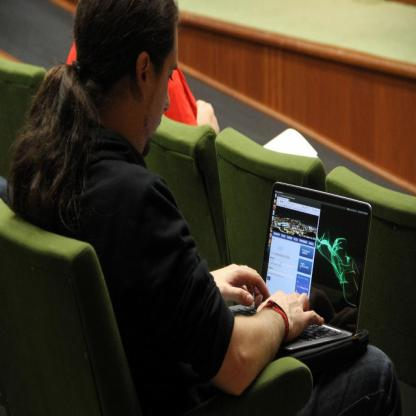board: (228, 180, 372, 354)
